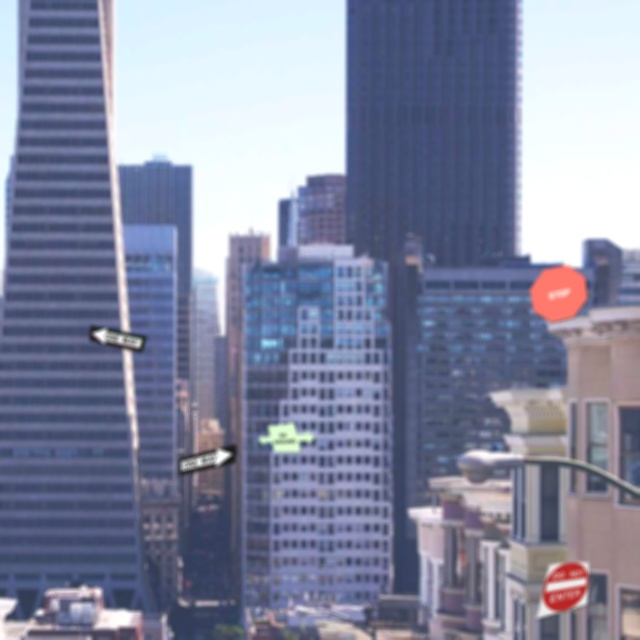DO_NOT_ENTER: (535, 561, 590, 620)
GO_AROUND: (257, 422, 316, 453)
ONE_WAY_ left: (88, 324, 147, 353)
ONE_WAY_ right: (178, 443, 237, 476)
STOP: (529, 264, 588, 323)
